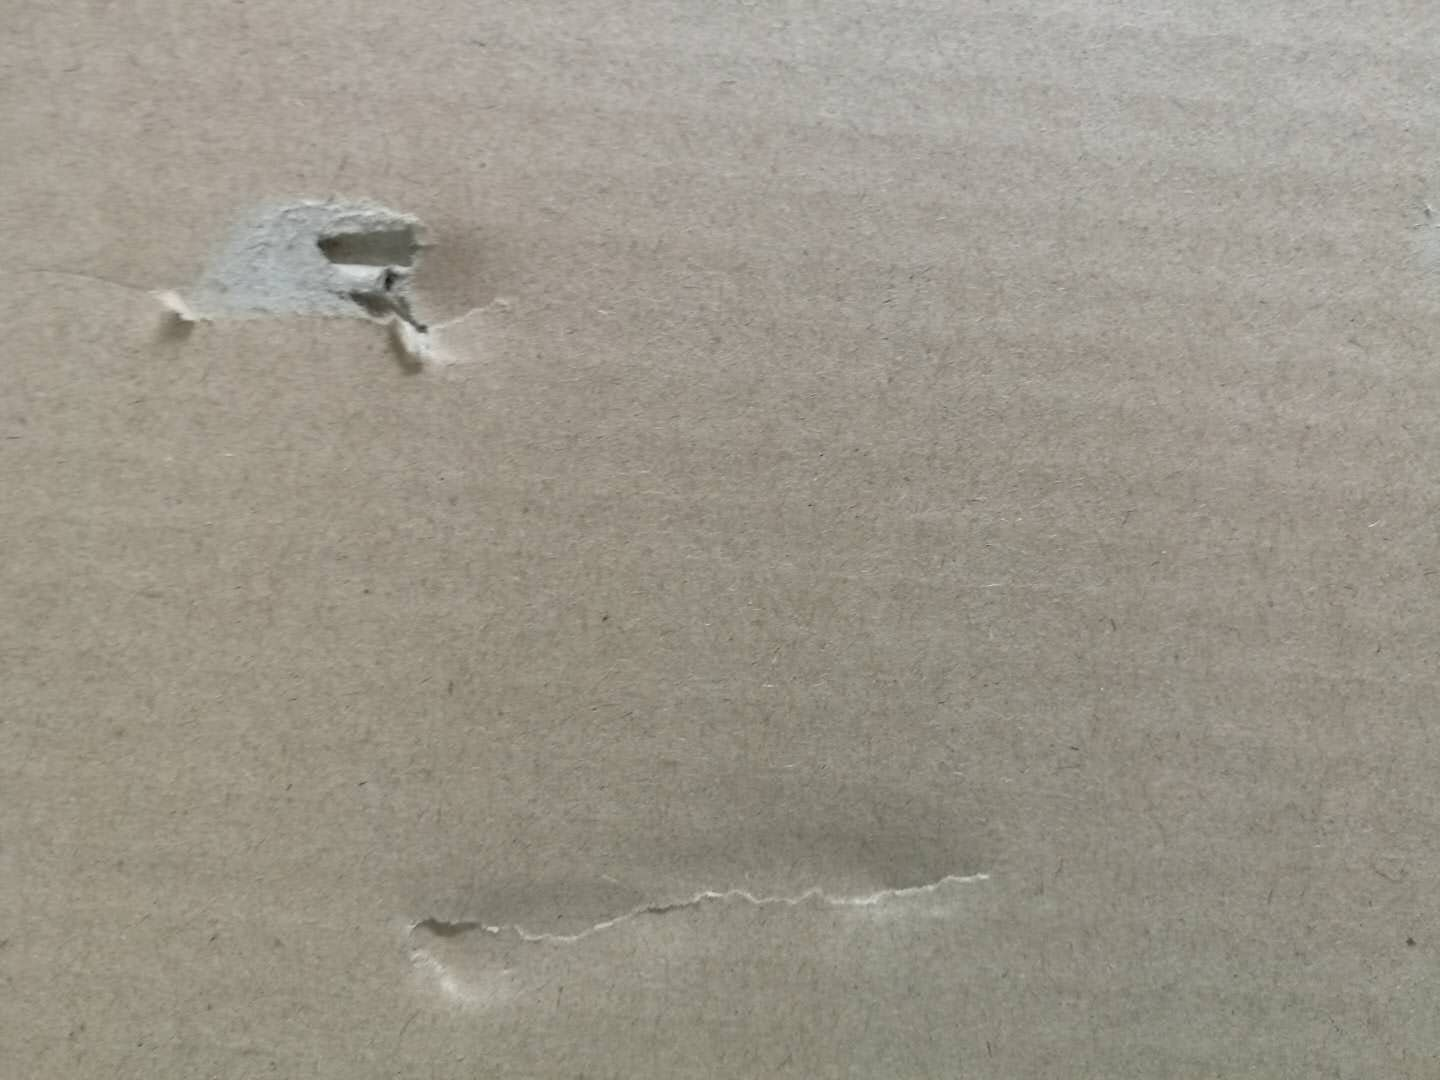defect: (362, 803, 1040, 1026), (112, 169, 533, 397)
